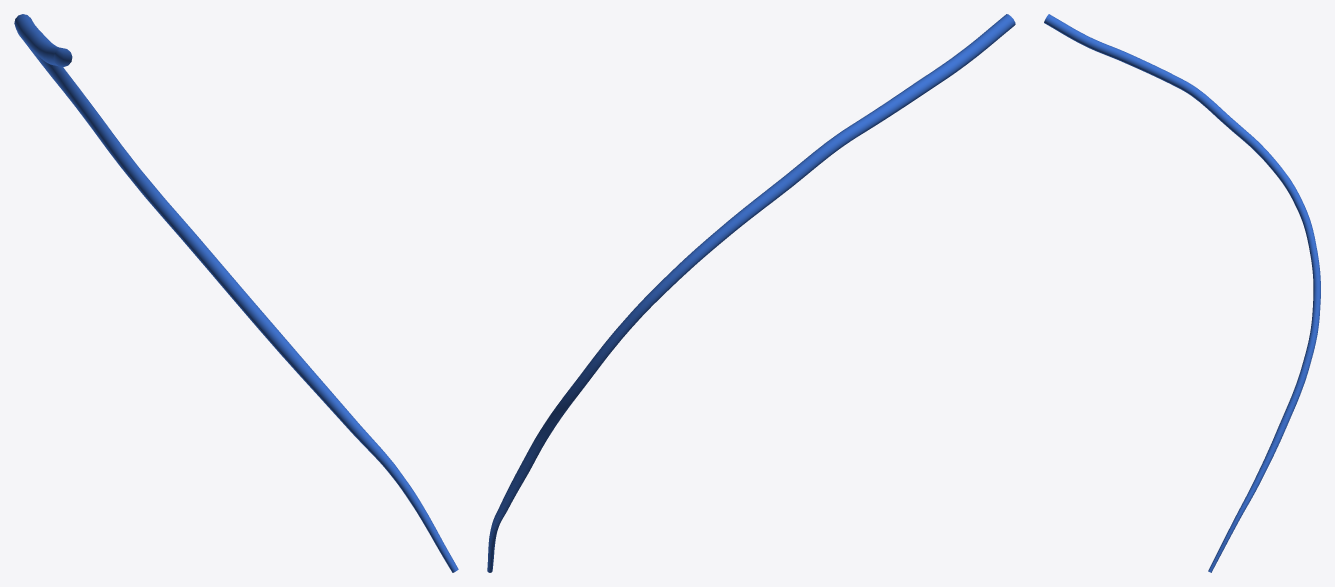
File: circulatorio-left-subcostal-vein.glb
3 renders of one model, left to right at view 1: azimuth 30°, elevation 25°; view 2: azimuth 150°, elevation 25°; view 3: azimuth 270°, elevation 25°, orthographic. The views are drawn at different scales.
Parts seen in each view (by area): view 1: Left subcostal vein; view 2: Left subcostal vein; view 3: Left subcostal vein.
Boxes of the visible parts, x1=… form: Left subcostal vein: x1=14, y1=14, x2=458, y2=572; Left subcostal vein: x1=487, y1=14, x2=1015, y2=572; Left subcostal vein: x1=1044, y1=14, x2=1320, y2=572.
Bounding box in the file's own units: 0.0534 × 0.0706 × 0.0427.
